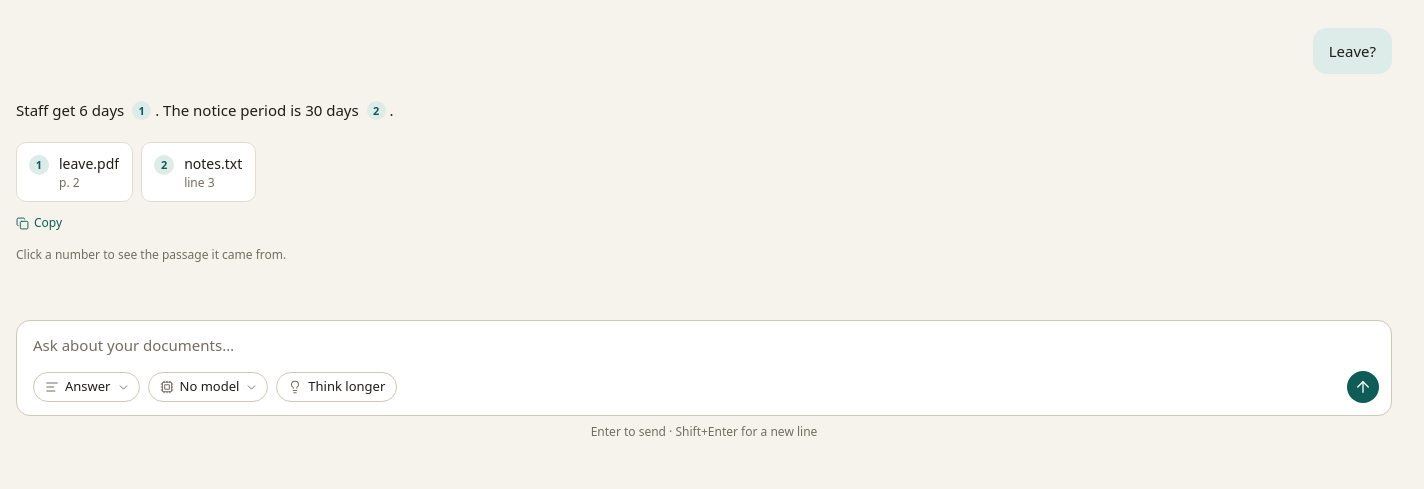
Test: checking a source from an answer › says in the user's words that the search model is not available
Click the button with class "cite" showing "1": (142, 110) [132, 101, 151, 120]
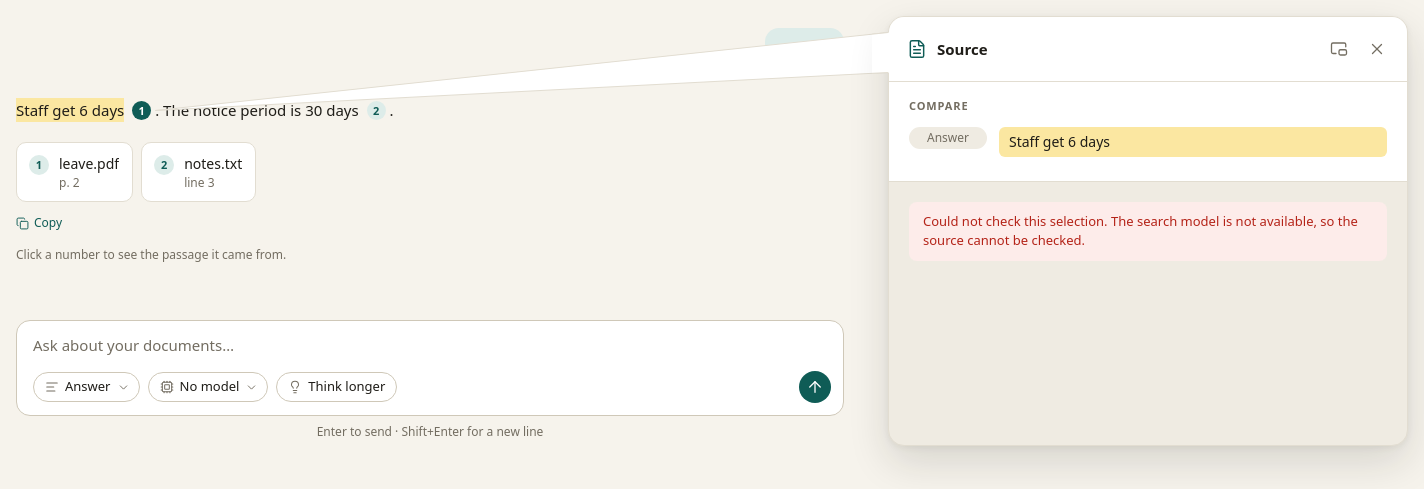
expect the message shows "Could not check this selection. The search model is not available, so the source cannot be checked.": met, box [909, 202, 1387, 260]
